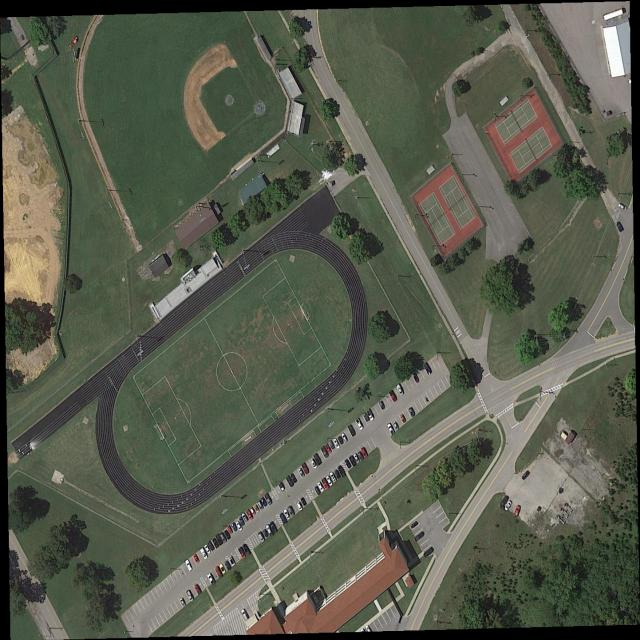small-vehicle: (336, 463, 347, 478), (388, 388, 399, 402), (213, 563, 223, 578), (206, 571, 216, 586), (414, 529, 426, 541), (284, 473, 295, 486), (320, 476, 330, 490), (300, 460, 310, 474), (354, 416, 364, 430), (423, 360, 433, 374), (312, 451, 322, 465), (320, 444, 330, 458), (269, 519, 278, 534), (423, 545, 434, 557), (278, 510, 288, 523), (263, 491, 273, 504), (241, 542, 251, 555), (499, 493, 509, 506), (365, 407, 375, 420), (615, 219, 625, 232), (265, 522, 274, 536), (513, 503, 522, 517), (237, 544, 246, 558), (386, 421, 395, 435), (332, 435, 341, 449), (199, 545, 208, 559), (193, 581, 202, 595), (185, 587, 194, 601), (255, 498, 265, 510), (308, 456, 318, 468), (240, 607, 249, 620), (245, 507, 254, 520), (395, 382, 404, 395), (215, 532, 224, 545), (227, 553, 236, 566), (184, 558, 193, 571), (286, 504, 295, 516), (282, 507, 291, 519), (257, 530, 266, 542), (504, 499, 513, 511), (328, 470, 337, 482), (391, 419, 400, 431), (348, 453, 357, 465), (521, 468, 530, 480), (210, 535, 219, 547), (206, 539, 215, 551), (235, 519, 243, 532), (289, 471, 298, 482), (297, 466, 306, 477), (333, 468, 342, 479), (316, 480, 325, 491), (219, 531, 228, 542), (407, 405, 416, 416), (617, 201, 628, 210), (241, 510, 249, 522), (325, 474, 333, 486), (223, 527, 231, 539), (352, 451, 360, 463), (348, 423, 356, 435), (412, 371, 420, 383), (340, 431, 348, 443), (224, 558, 232, 570), (410, 519, 419, 529), (252, 502, 260, 513), (296, 499, 304, 510), (260, 495, 268, 506), (226, 523, 234, 534), (357, 449, 365, 460), (360, 446, 368, 457), (399, 412, 407, 423), (344, 458, 352, 469), (203, 542, 211, 553), (192, 552, 200, 563), (324, 442, 332, 453), (277, 480, 285, 490), (249, 505, 257, 515), (362, 410, 370, 420), (378, 399, 386, 409), (262, 526, 269, 537), (231, 520, 238, 531), (314, 484, 321, 495), (179, 596, 186, 607), (328, 438, 335, 449), (238, 515, 245, 525), (300, 495, 307, 505), (337, 434, 344, 444), (218, 562, 225, 572)
